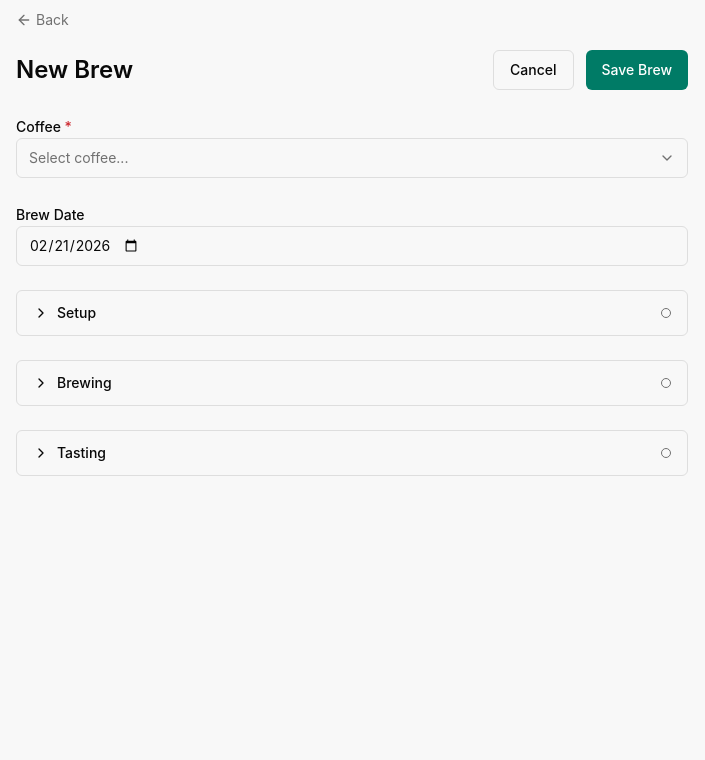
Scenario: BrewFormPage › computes extraction yield when coffee_ml, tds, and coffee_weight entered
Expected: the heading "New Brew" is shown, 16,54 -> 133,86
// Enter coffee_weight in Setup
Click the button "Setup": (77, 312) 17,291 -> 687,335
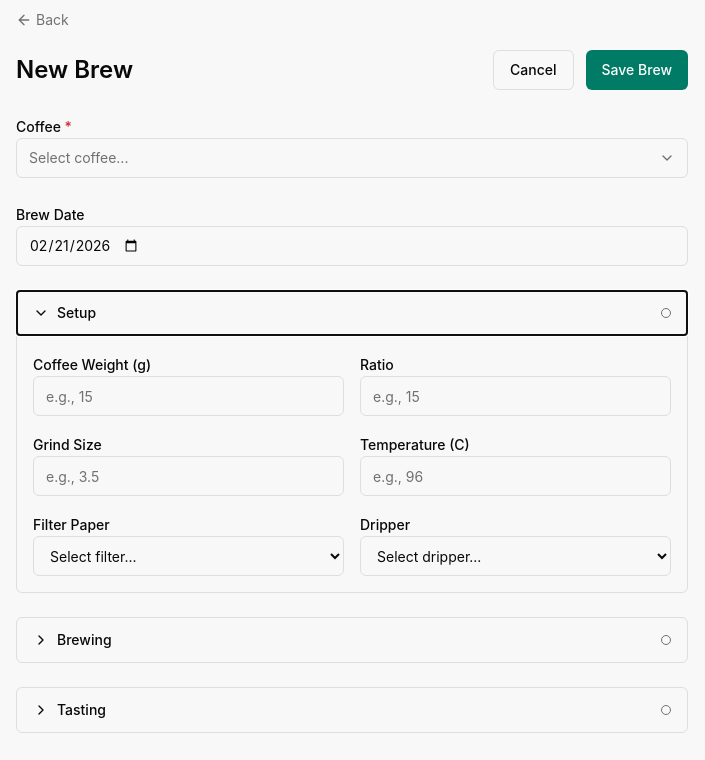
In the number field labelled "Coffee Weight (g)": (188, 396) 33,376 -> 344,416, type "15"
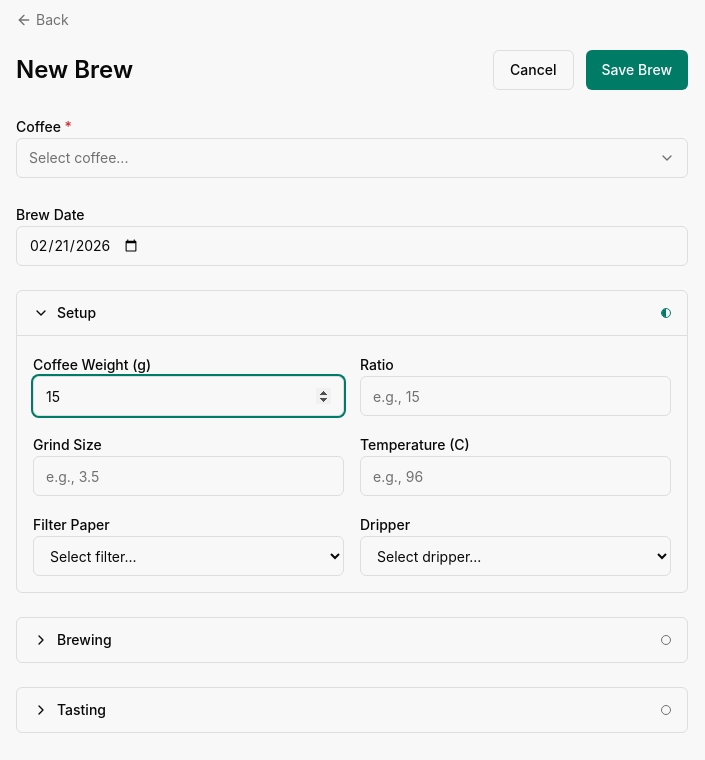
// Enter tasting fields
Click the button "Tasting": (82, 710) 17,688 -> 687,732
(page scrolled)
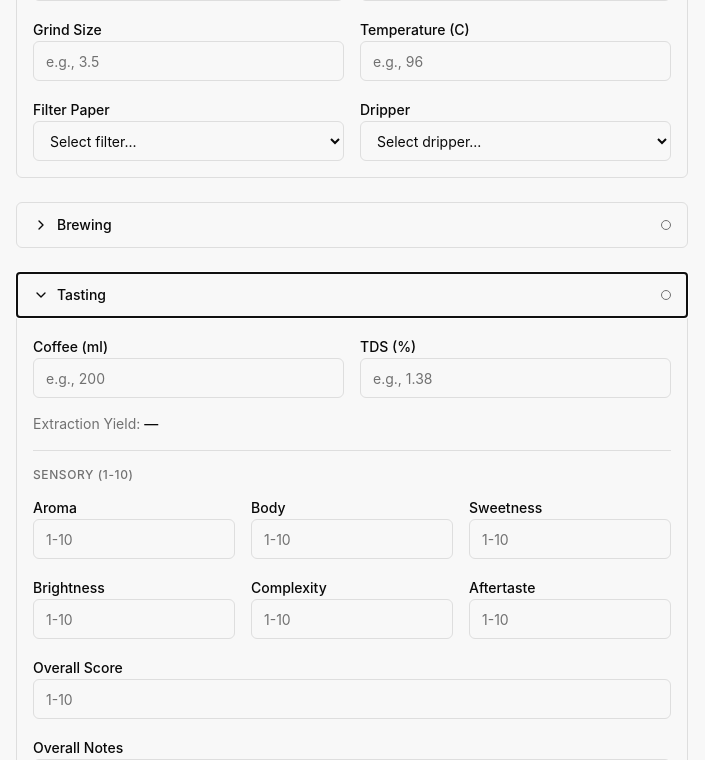
In the number field labelled "Coffee (ml)": (188, 378) 33,358 -> 344,398, type "200"
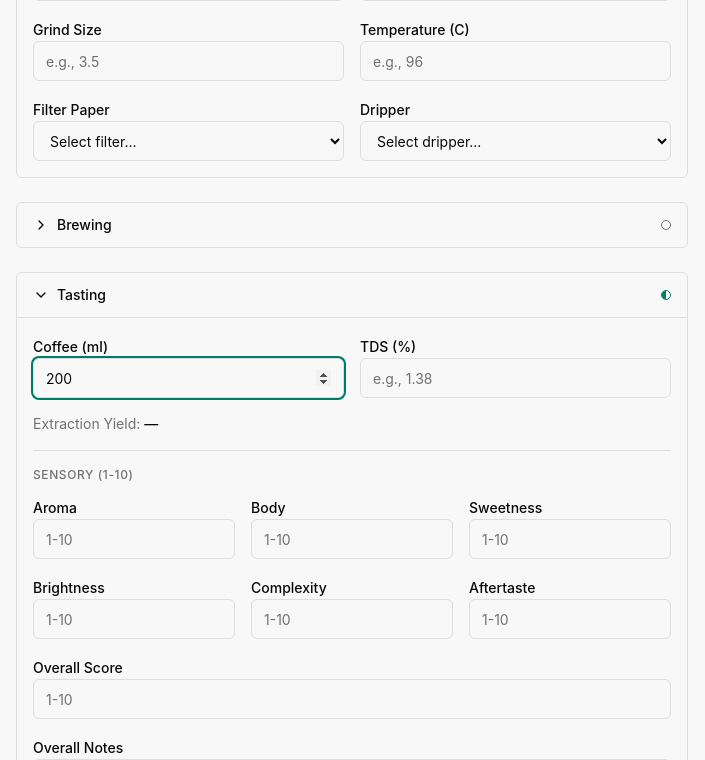
In the number field labelled "TDS (%)": (516, 378) 360,358 -> 671,398, type "1.38"
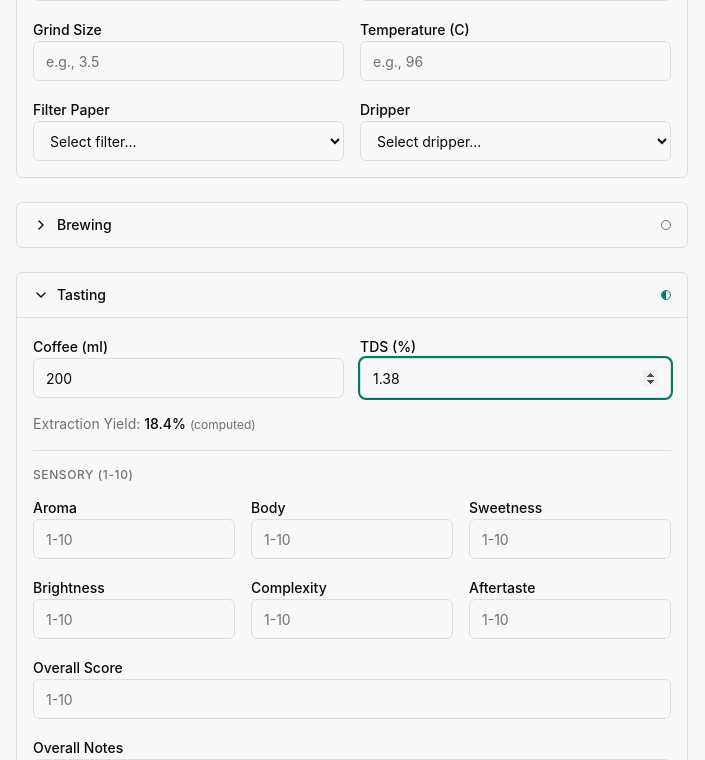
Now the text "18.4%" is shown, box 144,415 -> 186,432
